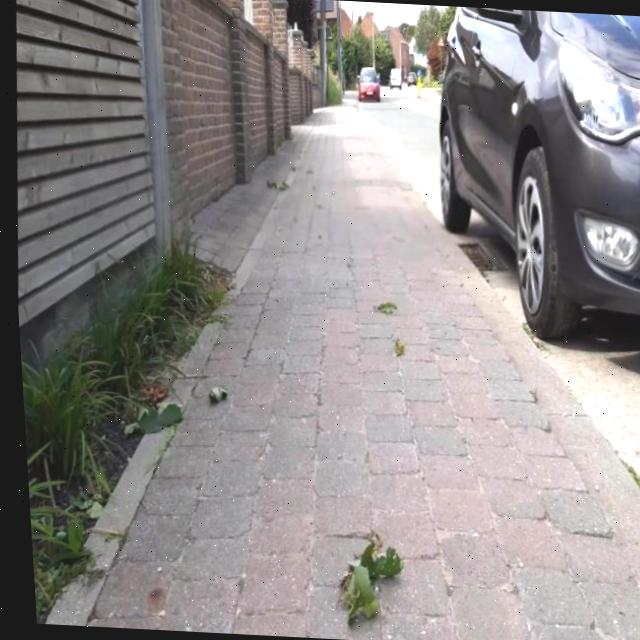Automobile: (437, 7, 640, 337), (358, 68, 379, 100), (389, 68, 399, 89), (406, 71, 415, 85)
Road: (477, 255, 640, 504), (359, 89, 438, 224), (451, 213, 495, 251)
Sidewalk: (69, 101, 640, 640)
